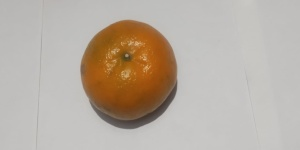BAD: (78, 16, 178, 122)
